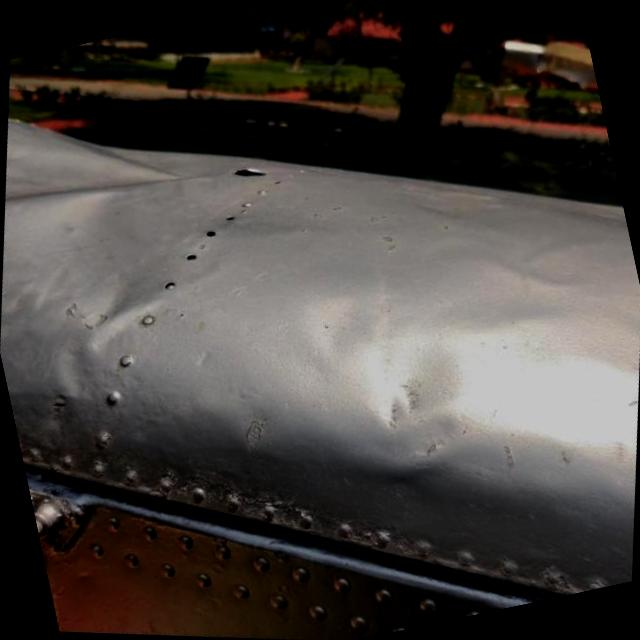Missing Fastener: (182, 251, 194, 261), (202, 226, 214, 236), (222, 212, 232, 220)
dent: (0, 66, 226, 237), (340, 309, 476, 439), (48, 273, 167, 377), (360, 438, 454, 529)
